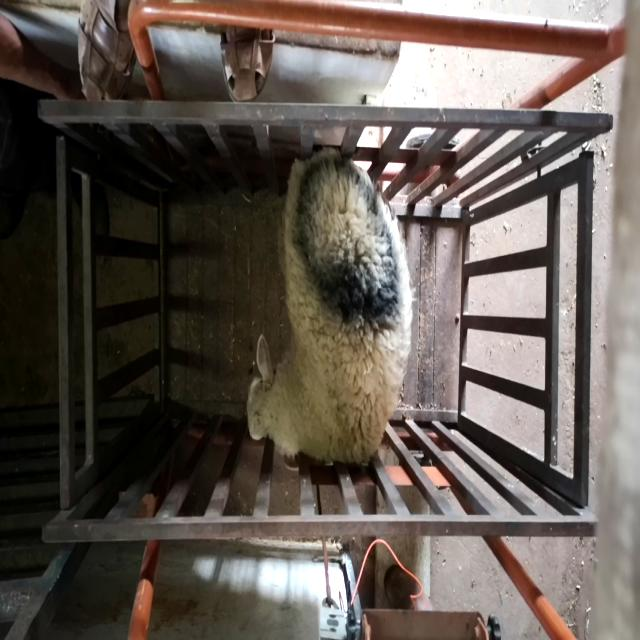sheep: (245, 148, 413, 471)
